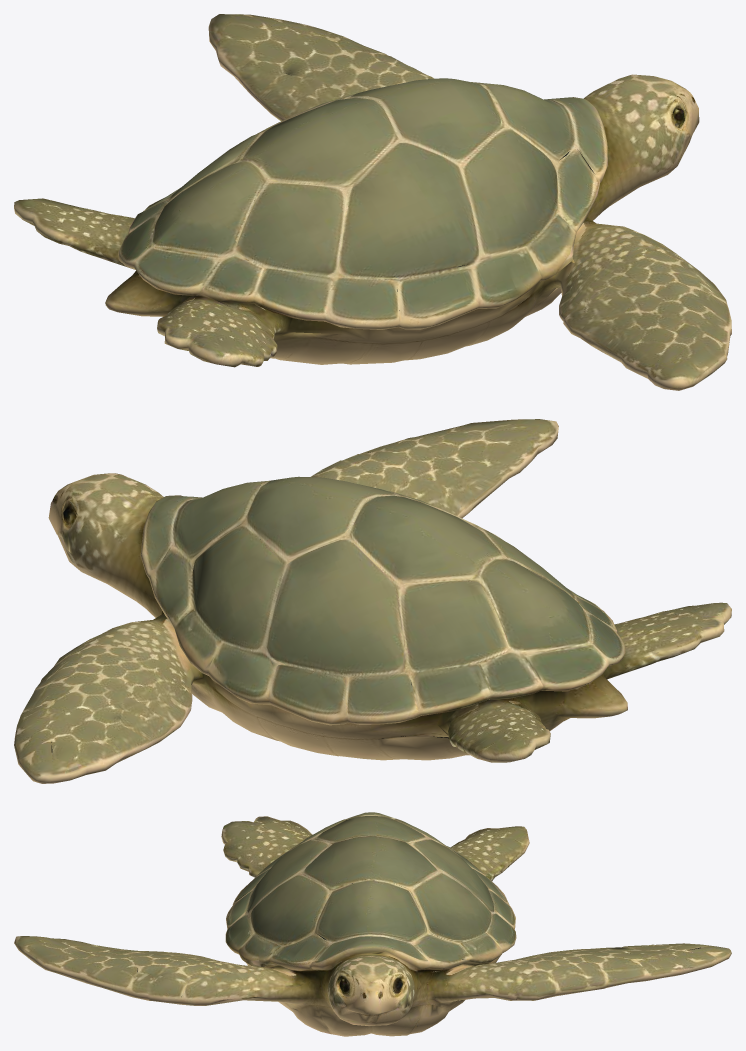
The model's file is turtle.glb.
3 renders of one model, top to bottom at view 1: azimuth 30°, elevation 25°; view 2: azimuth 150°, elevation 25°; view 3: azimuth 270°, elevation 25°, orthographic. The views are drawn at different scales.
Parts seen in each view (by area): view 1: node_0.001; view 2: node_0.001; view 3: node_0.001.
Boxes of the visible parts, <box> form: node_0.001: <box>14,14,731,390</box>; node_0.001: <box>14,419,731,783</box>; node_0.001: <box>14,812,731,1036</box>.
Bounding box in the file's own units: 2.18 × 0.8029 × 3.1.
1 material, 1 textured.
